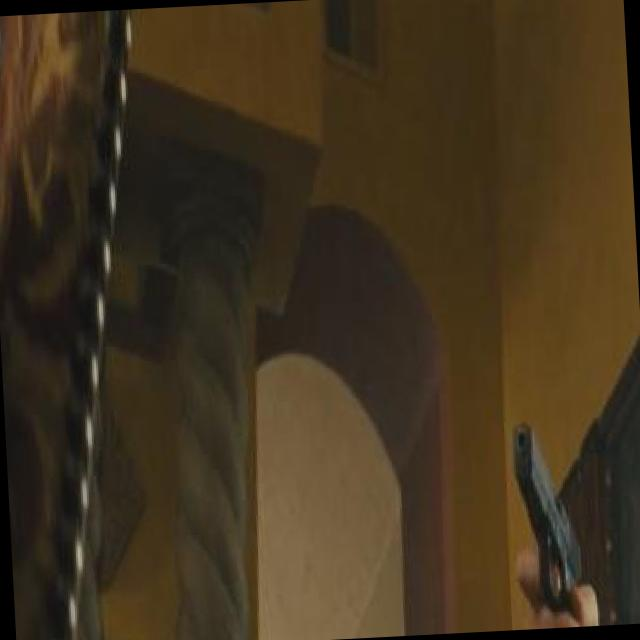Guns: (488, 400, 632, 631)
